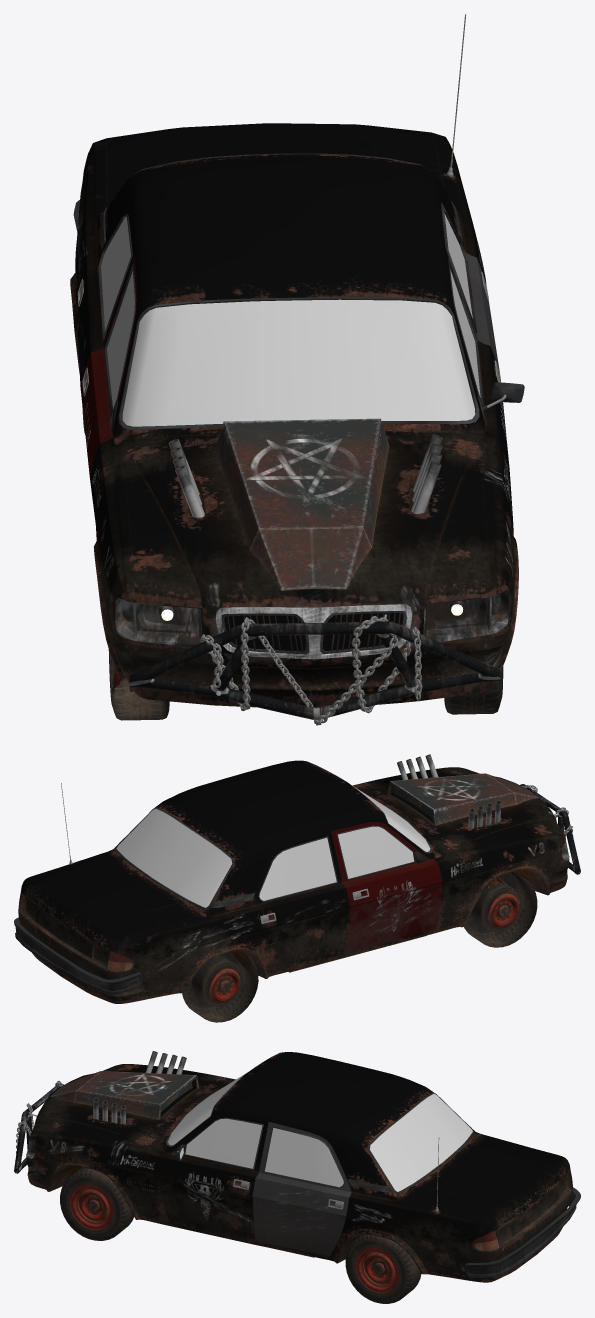
3 renders of one model, top to bottom at view 1: azimuth 30°, elevation 25°; view 2: azimuth 150°, elevation 25°; view 3: azimuth 270°, elevation 25°, orthographic. The views are drawn at different scales.
Parts seen in each view (by area): view 1: Body_LP, Glass_LP, Stuff_LP, Bumper_LP, HeadLight_LP, Chain_LP, Wheel_LP, Bottom_LP, HeadLight2_LP; view 2: Body_LP, Glass_LP, Wheel_LP, Stuff_LP, Bottom_LP, Bumper_LP; view 3: Body_LP, Glass_LP, Wheel_LP, Stuff_LP, Bottom_LP, Bumper_LP.
Boxes of the visible parts, bbox=[...] form: Body_LP: bbox=[70, 123, 518, 707]; Glass_LP: bbox=[101, 213, 480, 426]; Stuff_LP: bbox=[73, 14, 524, 652]; Bumper_LP: bbox=[130, 621, 501, 720]; HeadLight_LP: bbox=[113, 590, 509, 647]; Chain_LP: bbox=[200, 616, 421, 725]; Wheel_LP: bbox=[82, 407, 503, 720]; Bottom_LP: bbox=[94, 550, 403, 705]; HeadLight2_LP: bbox=[135, 597, 488, 633]; Body_LP: bbox=[18, 760, 569, 1003]; Glass_LP: bbox=[116, 786, 430, 907]; Wheel_LP: bbox=[182, 871, 537, 1022]; Stuff_LP: bbox=[14, 754, 501, 994]; Bottom_LP: bbox=[216, 869, 547, 995]; Bumper_LP: bbox=[520, 784, 580, 874]; Body_LP: bbox=[26, 1052, 573, 1282]; Glass_LP: bbox=[168, 1073, 472, 1191]; Wheel_LP: bbox=[60, 1167, 421, 1303]; Stuff_LP: bbox=[93, 1051, 580, 1277]; Bottom_LP: bbox=[49, 1166, 387, 1277]; Bumper_LP: bbox=[14, 1084, 63, 1173].
Bounding box in the file's own units: 385 × 187 × 532.
